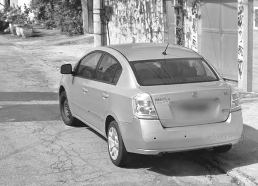car: (57, 43, 244, 168)
